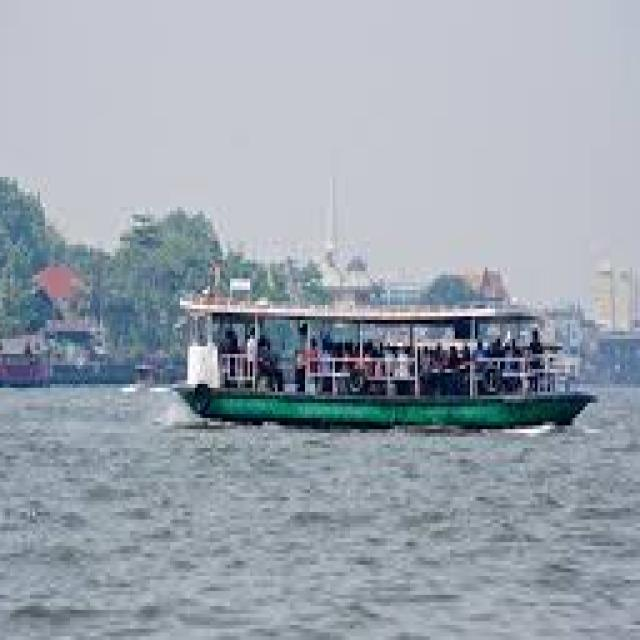passenger ship: (156, 244, 589, 431)
